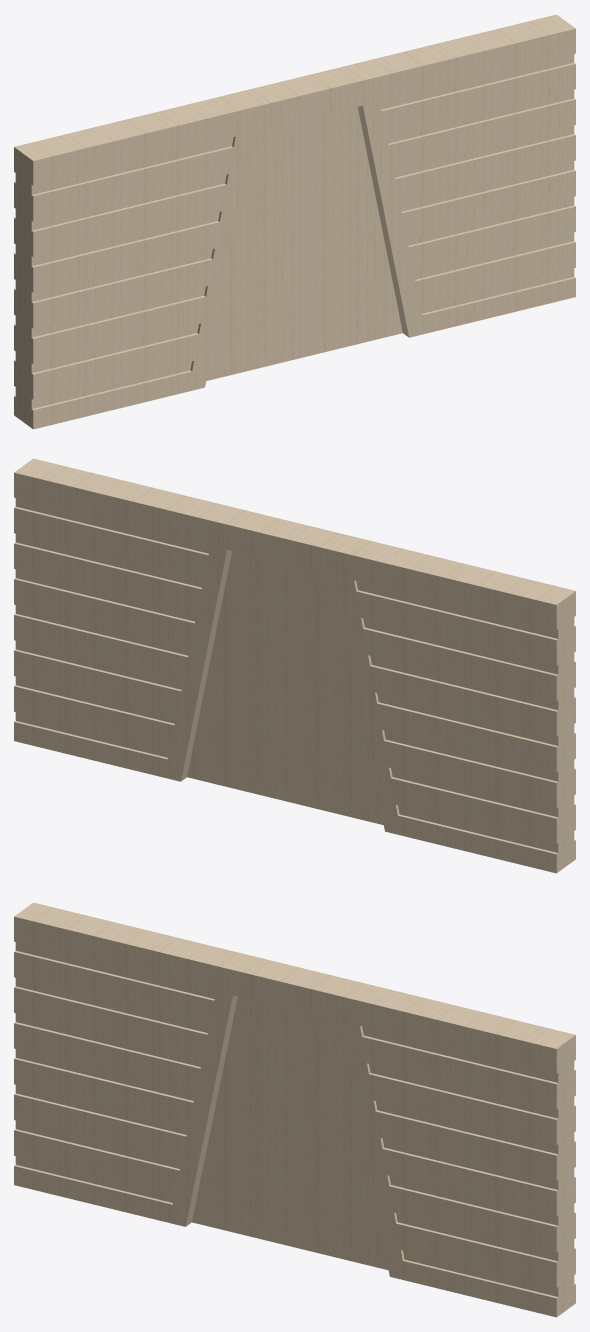
File: Gallery_Stand01.FBX
3 renders of one model, top to bottom at view 1: azimuth 30°, elevation 25°; view 2: azimuth 150°, elevation 25°; view 3: azimuth 330°, elevation 25°, orthographic.
Parts seen in each view (by area): view 1: Gallery_Stand01; view 2: Gallery_Stand01; view 3: Gallery_Stand01.
Boxes of the visible parts, x1=… form: Gallery_Stand01: x1=14, y1=14, x2=575, y2=429; Gallery_Stand01: x1=14, y1=458, x2=575, y2=873; Gallery_Stand01: x1=14, y1=902, x2=575, y2=1317.
Bounding box in the file's own units: 217 × 13.39 × 102.
